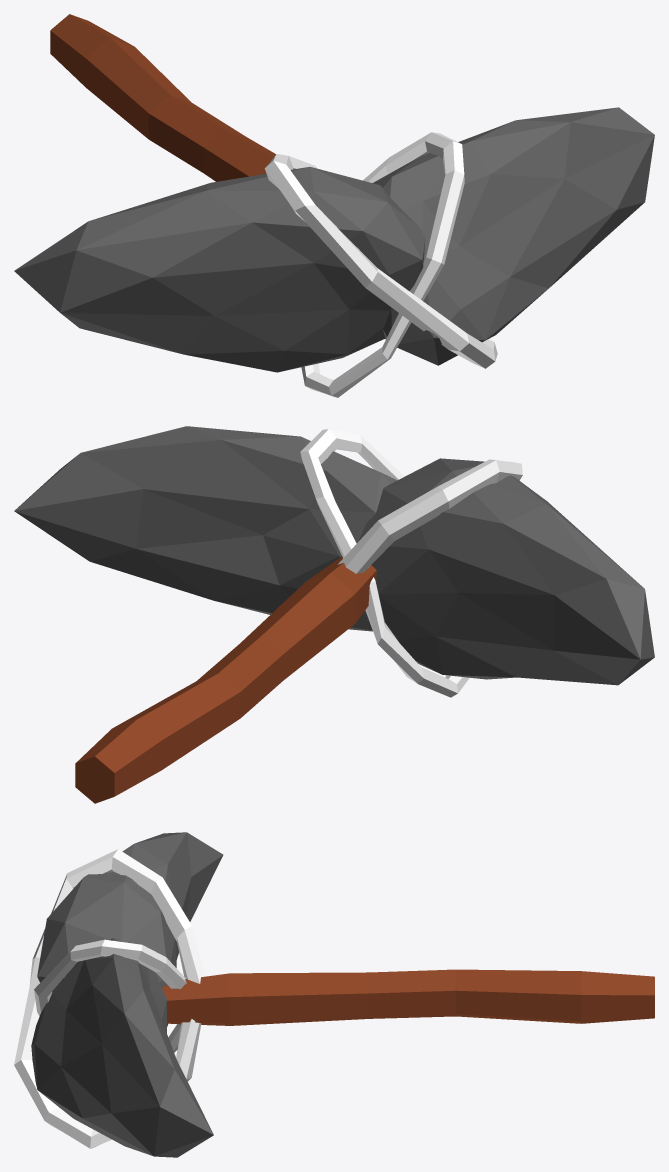
The model's file is Pickaxe.fbx.
The picture shows the model from 3 angles, top to bottom: view 1: azimuth 30°, elevation 25°; view 2: azimuth 150°, elevation 25°; view 3: azimuth 270°, elevation 25°; orthographic projection. The views are drawn at different scales.
Visible parts, largest first — view 1: Icosphere.106, Icosphere.107, Cylinder.005, Cylinder.004; view 2: Icosphere.107, Icosphere.106, Cylinder.004, Cylinder.005; view 3: Icosphere.107, Cylinder.004, Icosphere.106, Cylinder.005.
Part boxes in pixels (box(x1,y1,x2,y2)): Icosphere.106: box(14, 167, 425, 372); Icosphere.107: box(372, 107, 654, 365); Cylinder.005: box(264, 132, 497, 397); Cylinder.004: box(50, 14, 275, 181); Icosphere.107: box(14, 426, 396, 631); Icosphere.106: box(358, 458, 654, 685); Cylinder.004: box(75, 557, 376, 803); Cylinder.005: box(300, 429, 522, 697); Icosphere.107: box(31, 938, 213, 1157); Cylinder.004: box(162, 969, 654, 1025); Icosphere.106: box(37, 832, 223, 1026); Cylinder.005: box(14, 849, 205, 1148).
Bounding box in the file's own units: 381 × 141 × 379.
